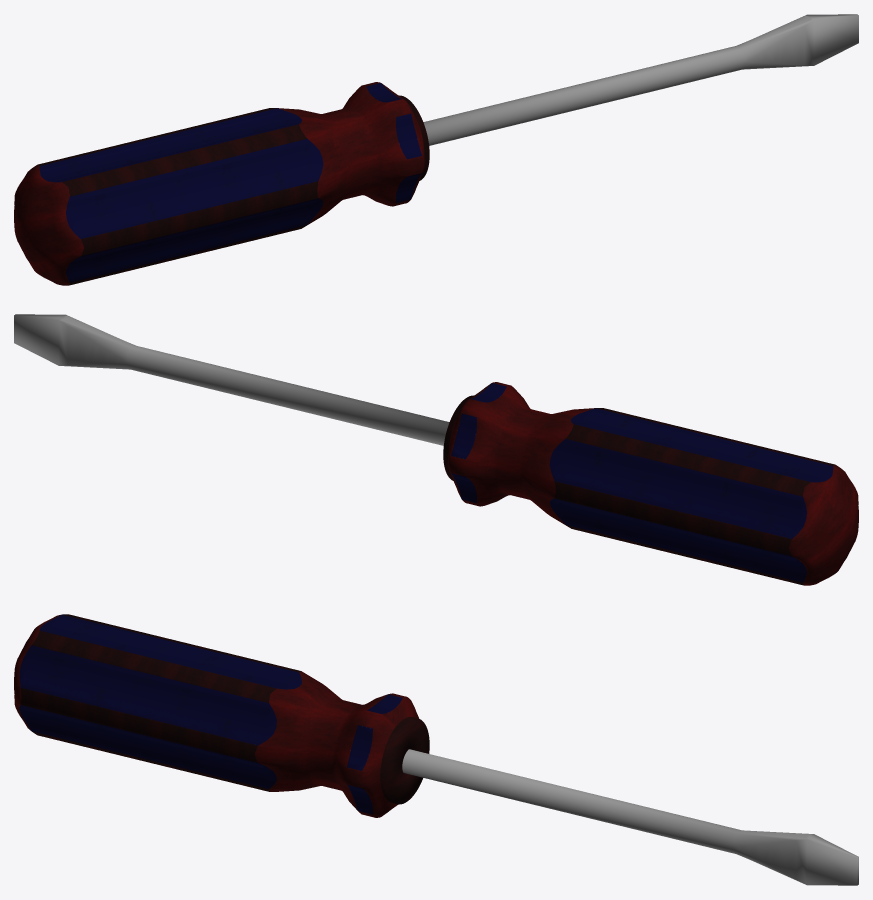
Rendered from ScrewdriverModel.FBX.
3 views of the same model, one above another, from view 1: azimuth 30°, elevation 25°; view 2: azimuth 150°, elevation 25°; view 3: azimuth 330°, elevation 25° (orthographic).
Parts seen in each view (by area): view 1: screwdriver_model; view 2: screwdriver_model; view 3: screwdriver_model.
Part boxes in pixels (box(x1,y1,x2,y2)): screwdriver_model: box(14, 14, 858, 285); screwdriver_model: box(14, 314, 858, 585); screwdriver_model: box(14, 614, 858, 885).
Size of what is drawn, in the model's own units: 15.88 by 2.06 by 1.88.
Materials: 1 (1 with a texture image).
